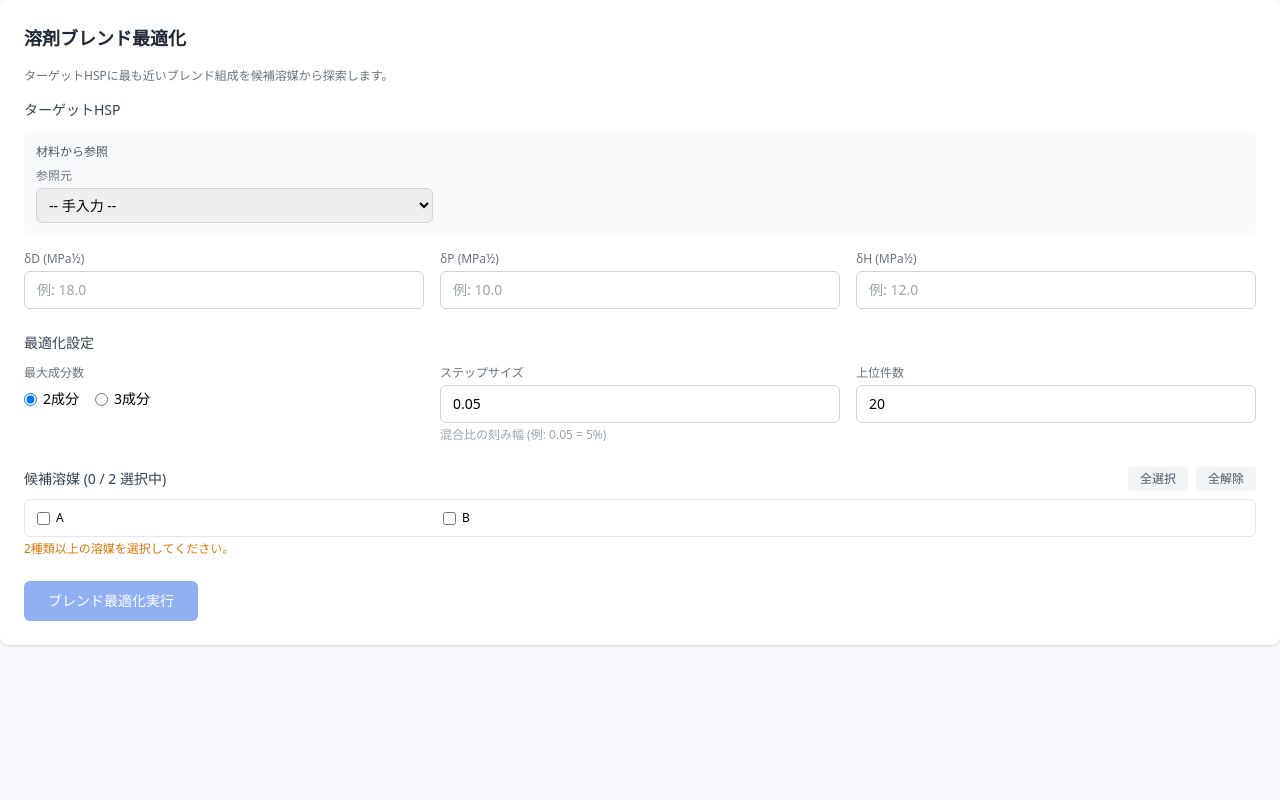
BlendOptimizerView › 全選択ボタンで全溶媒が選択される
Check: the text "A" is shown, box left=56, top=510, right=64, bottom=526
Step 1. Click the button "全選択" → (1158, 479), box left=1128, top=467, right=1188, bottom=491
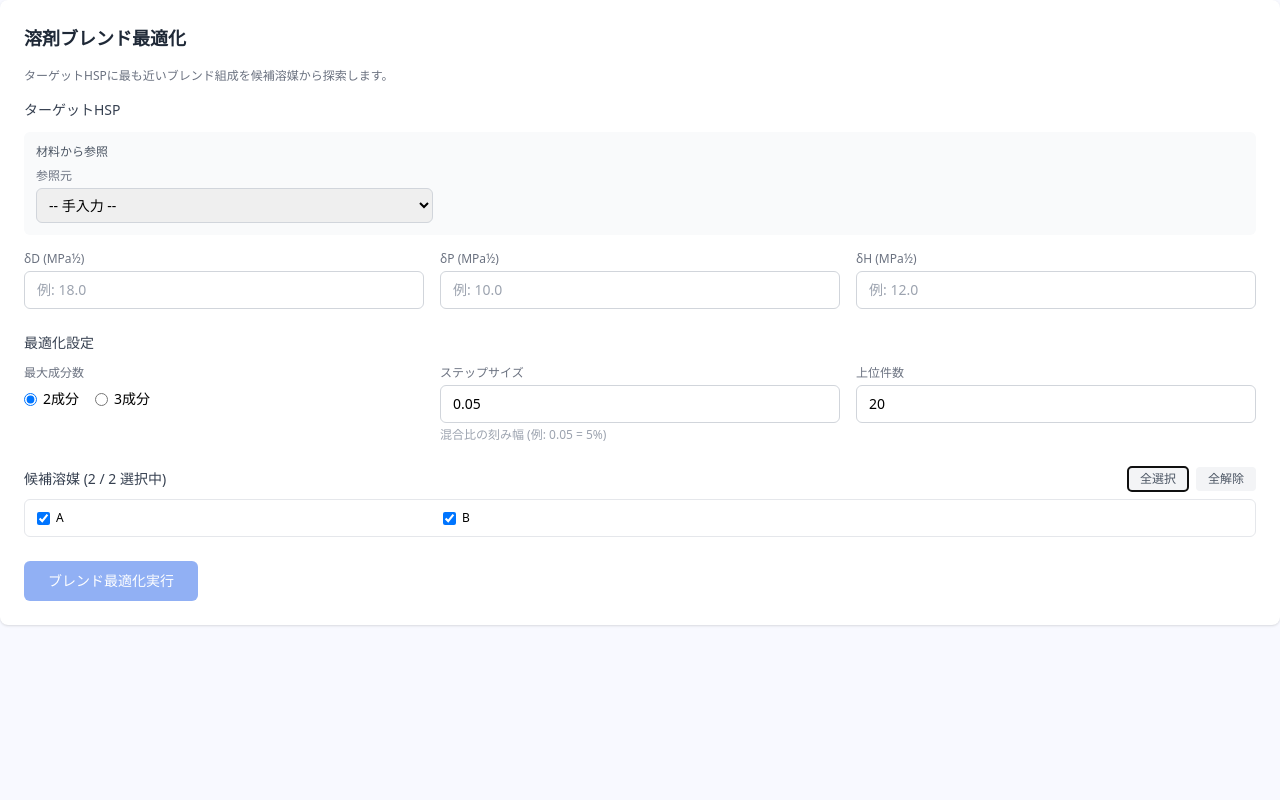
Check: the checkbox labelled "A" is checked, box left=37, top=512, right=50, bottom=524
Check: the checkbox labelled "B" is checked, box left=443, top=512, right=456, bottom=524
